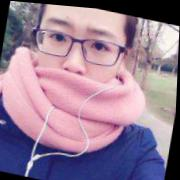WRONG: (30, 7, 129, 116)
